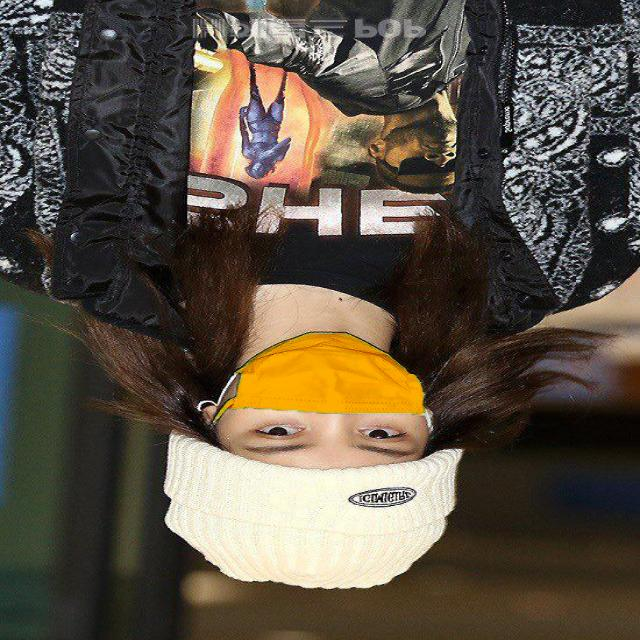Mask: (194, 328, 436, 421)
